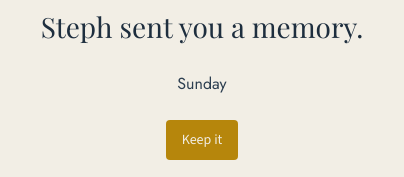
it: receiving a shared memory › clears pending token on self and offers archive
Step 1. Click the button "Keep it" → (202, 140), box [166, 120, 238, 160]
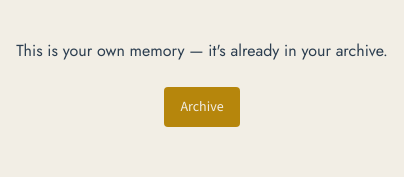
Now the message "This is your own memory — it's already in your archive." is shown, box [16, 39, 388, 62]
Now the button "Archive" is shown, box [164, 87, 240, 127]
